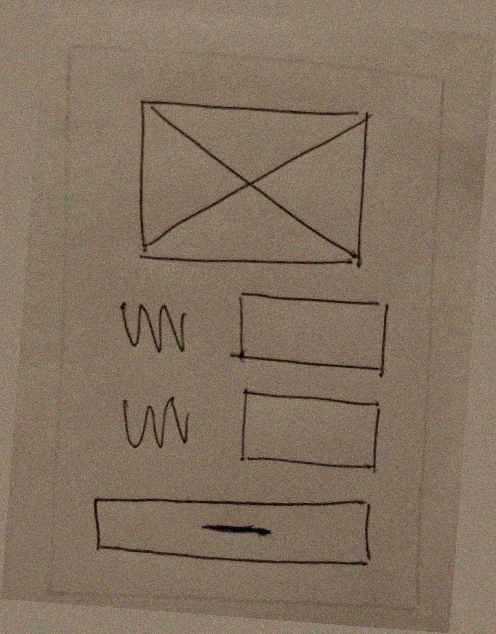button: (75, 473, 393, 582)
image: (109, 87, 389, 280)
text: (100, 288, 206, 366), (96, 387, 208, 459)
text_input: (222, 283, 403, 385), (221, 384, 397, 485)
